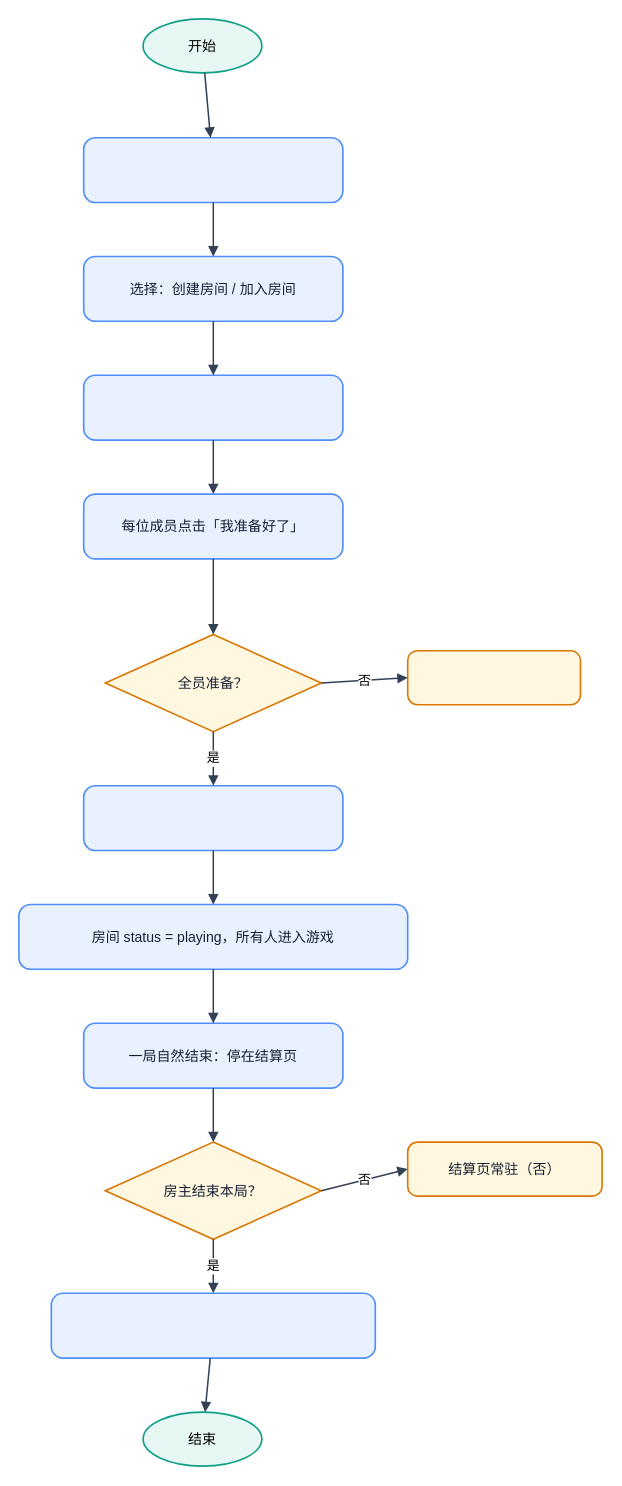
Some shapes in this 622 by 1486 pixel diagram are drawn without their labels. The box of each missing label's shape, as (x1, y1, x2, y2) in pixels:
status = lobby，全员准备清零: (50, 1292, 376, 1358)
房主选择玩法: (82, 784, 343, 851)
继续等待（否）: (406, 649, 581, 705)
进入小程序首页：编辑雪人形象与昵称: (82, 136, 343, 203)
进入房间大厅（status = lobby）: (82, 374, 343, 440)
